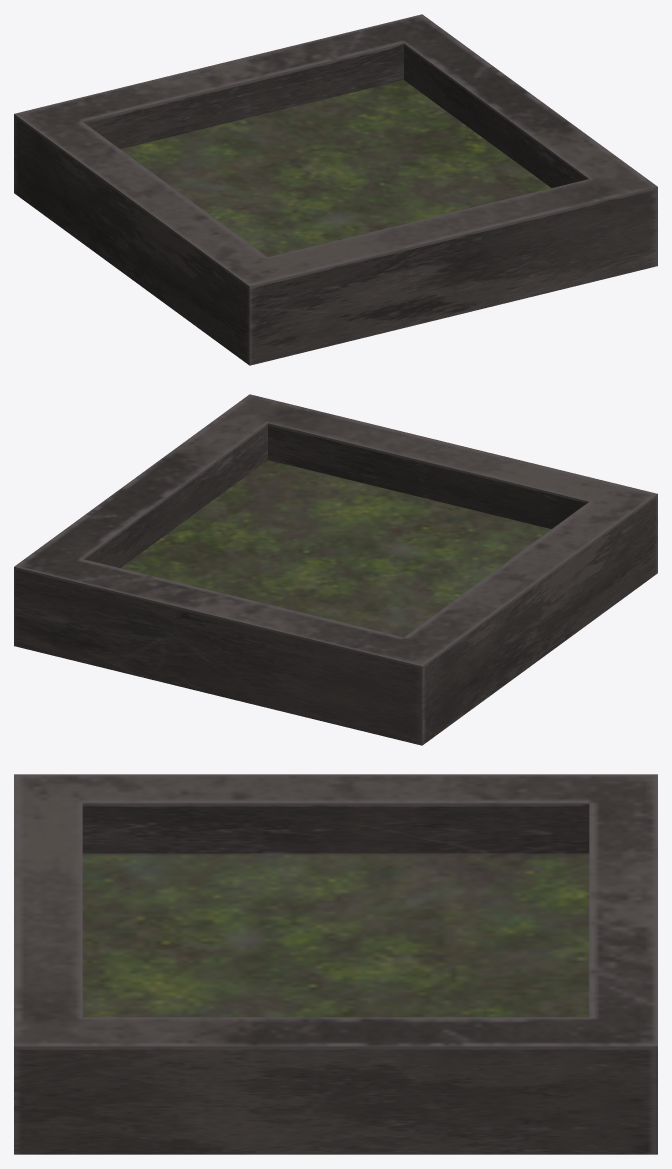
The model's file is modular garden.fbx.
3 views of the same model, one above another, from view 1: azimuth 30°, elevation 25°; view 2: azimuth 150°, elevation 25°; view 3: azimuth 270°, elevation 25° (orthographic). The views are drawn at different scales.
Parts seen in each view (by area): view 1: Jardim padrao; view 2: Jardim padrao; view 3: Jardim padrao.
Boxes of the visible parts, left/top/right/bottom form: Jardim padrao: left=14, top=14, right=657, bottom=365; Jardim padrao: left=14, top=394, right=657, bottom=745; Jardim padrao: left=14, top=774, right=657, bottom=1154.
Size of the model in its own units: 144 by 26.77 by 144.
